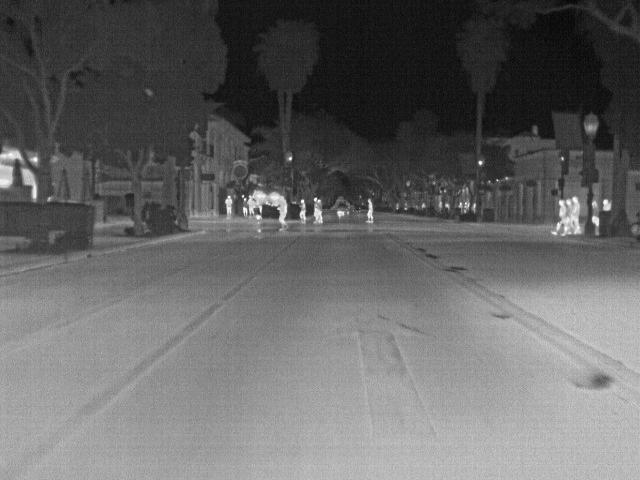car: (334, 200, 351, 216)
person: (276, 195, 288, 232), (312, 194, 325, 222), (564, 199, 574, 235), (573, 197, 581, 233), (298, 196, 308, 224), (557, 199, 565, 234), (592, 198, 600, 232), (365, 198, 375, 223), (224, 194, 232, 218), (241, 194, 248, 216), (603, 197, 613, 212), (247, 196, 254, 213)
